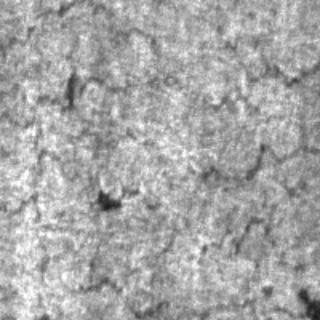crazing: (7, 0, 315, 110), (170, 50, 318, 200), (120, 176, 318, 288), (0, 102, 160, 216)
